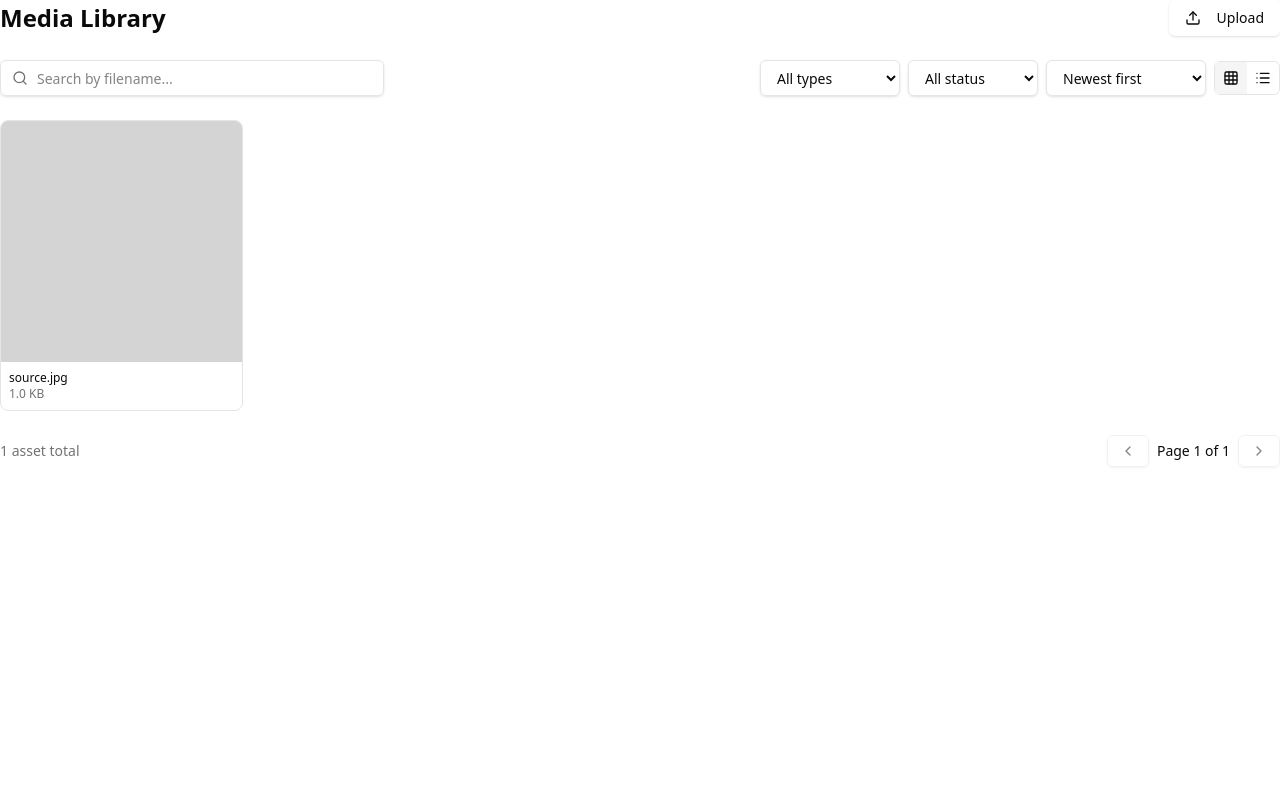
Scenario: MediaLibraryPage › offers a replacement choice when the selected media is in use
Click the button "source.jpg 1.0 KB" at (122, 266), box [0,120,243,411]
(page scrolled)
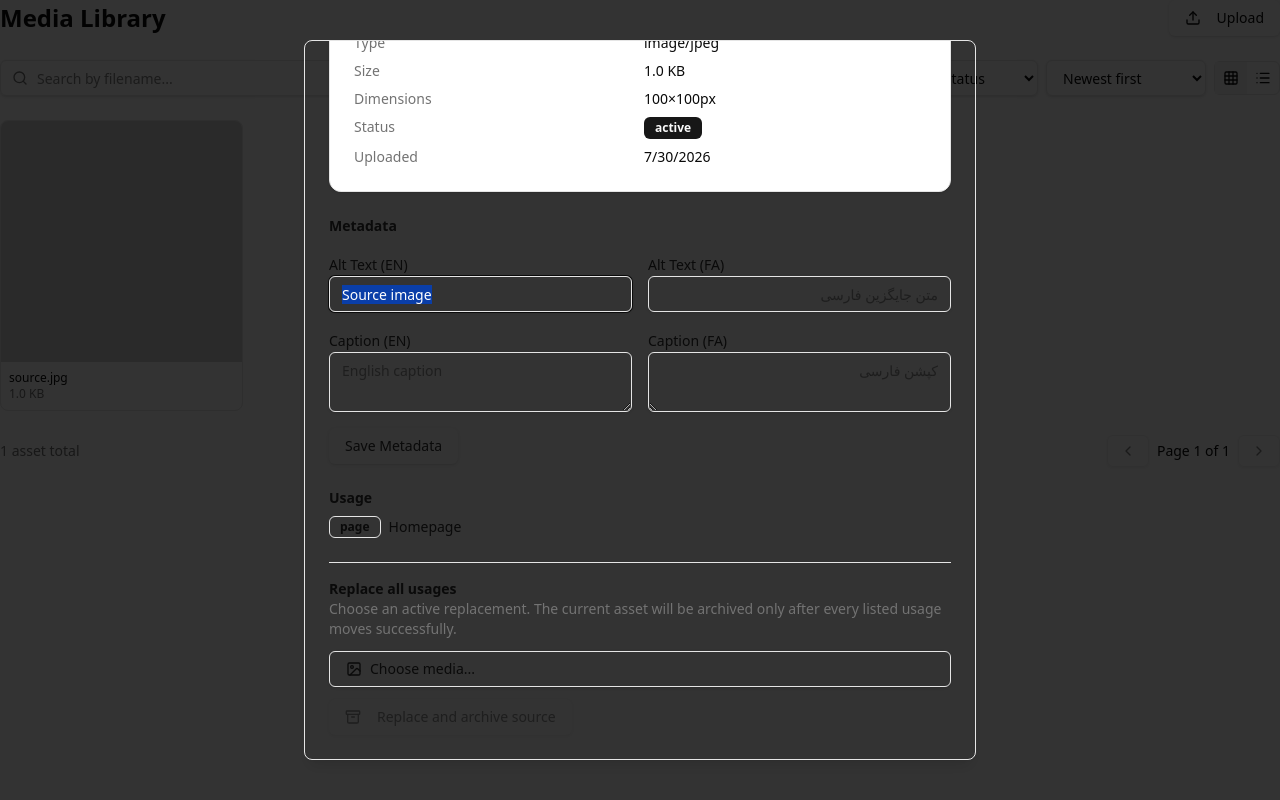
Expected: the heading "Replace all usages" is shown, [329,579,457,598]
